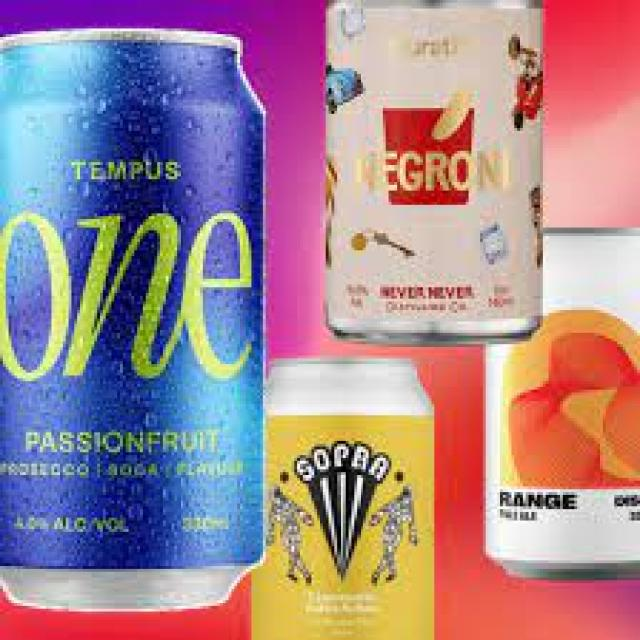Cans: (3, 20, 271, 620), (303, 3, 551, 344)
